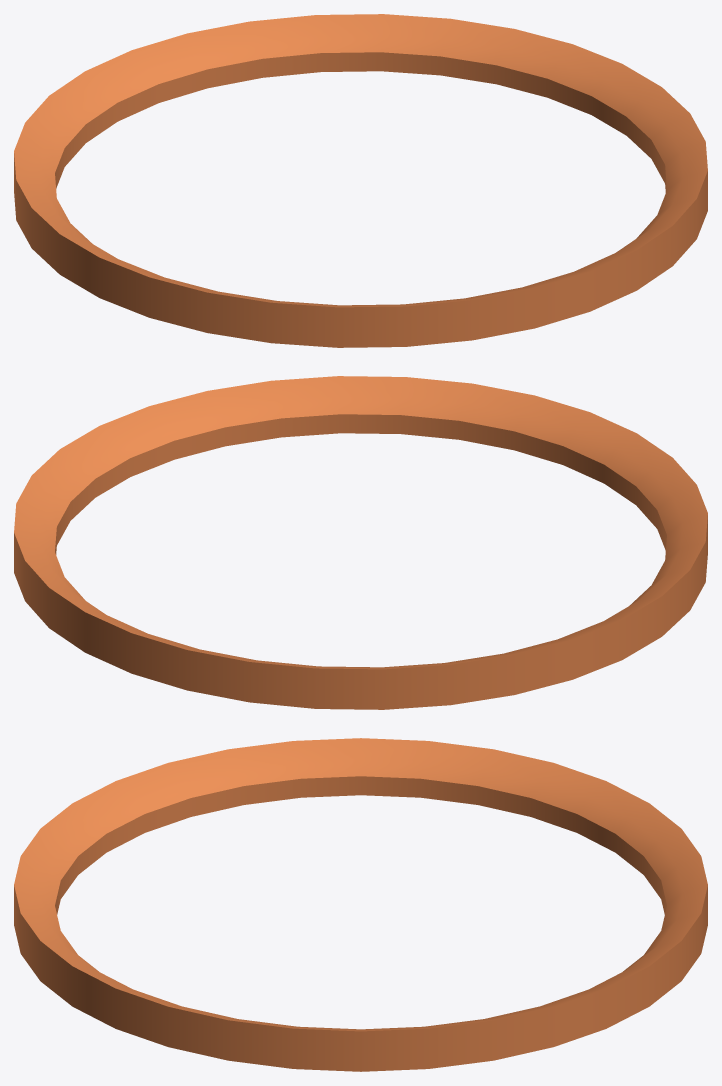
The model's file is underbarrier (2).fbx.
3 views of the same model, one above another, from view 1: azimuth 30°, elevation 25°; view 2: azimuth 150°, elevation 25°; view 3: azimuth 270°, elevation 25° (orthographic).
Visible parts, largest first — view 1: Circle; view 2: Circle; view 3: Circle.
Part boxes in pixels (left/top/right/bottom): Circle: left=14, top=14, right=707, bottom=347; Circle: left=14, top=376, right=707, bottom=709; Circle: left=14, top=738, right=707, bottom=1071.
Bounding box in the file's own units: 5000 × 321 × 5000.
